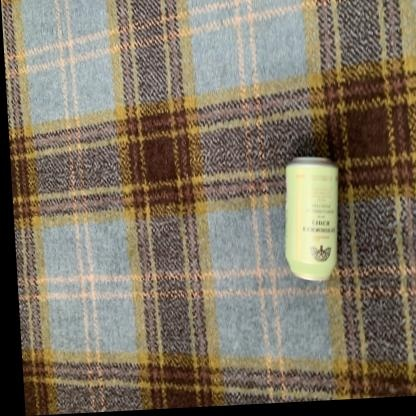trash: (285, 157, 337, 280)
